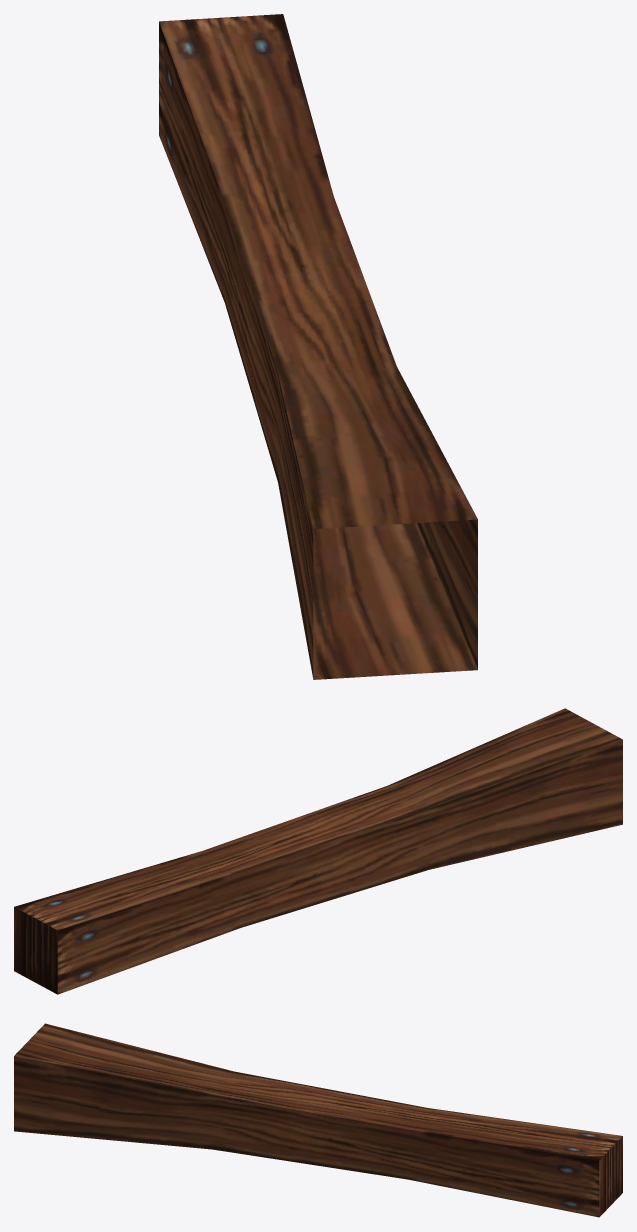
The model's file is OVERHILL_A_01_POST22.fbx.
The picture shows the model from 3 angles, top to bottom: view 1: azimuth 30°, elevation 25°; view 2: azimuth 150°, elevation 25°; view 3: azimuth 270°, elevation 25°; orthographic projection. The views are drawn at different scales.
Parts seen in each view (by area): view 1: OVERHILL_A_01_POST22; view 2: OVERHILL_A_01_POST22; view 3: OVERHILL_A_01_POST22.
Boxes of the visible parts, bbox=[...] form: OVERHILL_A_01_POST22: bbox=[159, 14, 477, 679]; OVERHILL_A_01_POST22: bbox=[14, 708, 622, 994]; OVERHILL_A_01_POST22: bbox=[14, 1023, 622, 1217].
Bounding box in the file's own units: 8099 × 2225 × 16296.
Materials: 1 (1 with a texture image).
